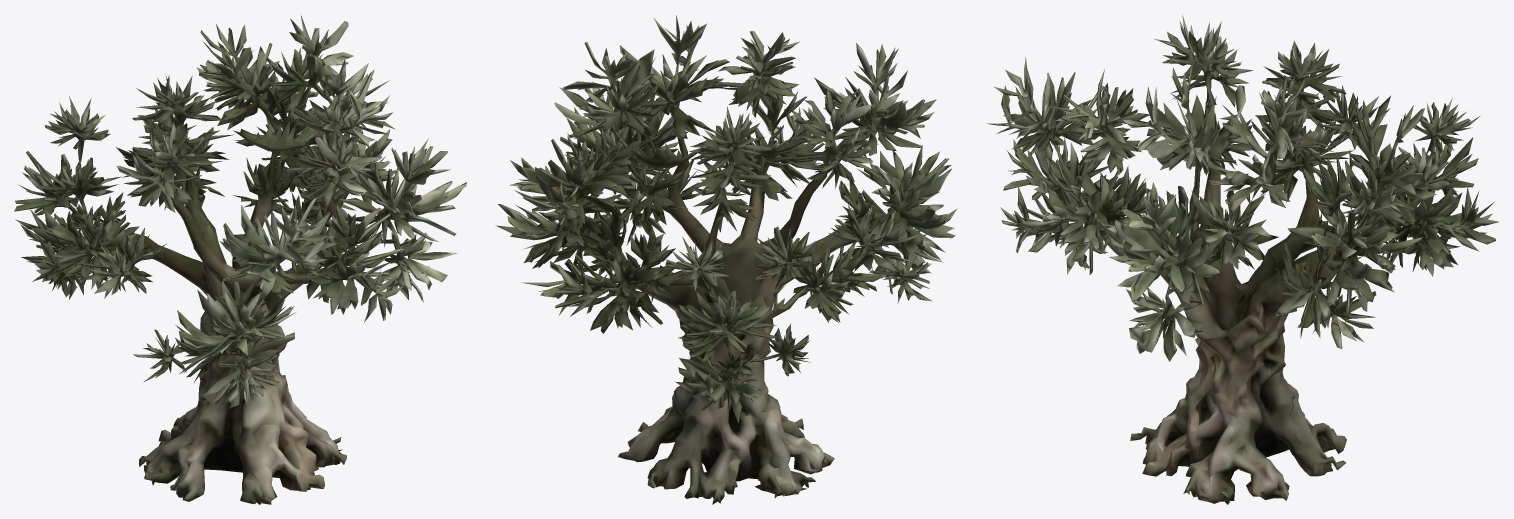
File: tree_olive.glb
3 renders of one model, left to right at view 1: azimuth 30°, elevation 25°; view 2: azimuth 150°, elevation 25°; view 3: azimuth 270°, elevation 25°, orthographic. The views are drawn at different scales.
Parts seen in each view (by area): view 1: tripo_node_61453e8e-a620-4f35-abae-a4b8827598fe; view 2: tripo_node_61453e8e-a620-4f35-abae-a4b8827598fe; view 3: tripo_node_61453e8e-a620-4f35-abae-a4b8827598fe.
Boxes of the visible parts, left/top/right/bottom form: tripo_node_61453e8e-a620-4f35-abae-a4b8827598fe: left=14, top=15, right=466, bottom=504; tripo_node_61453e8e-a620-4f35-abae-a4b8827598fe: left=495, top=15, right=957, bottom=504; tripo_node_61453e8e-a620-4f35-abae-a4b8827598fe: left=986, top=14, right=1498, bottom=504.
Bounding box in the file's own units: 0.8353 × 0.9214 × 1.
Materials: 1 (1 with a texture image).
